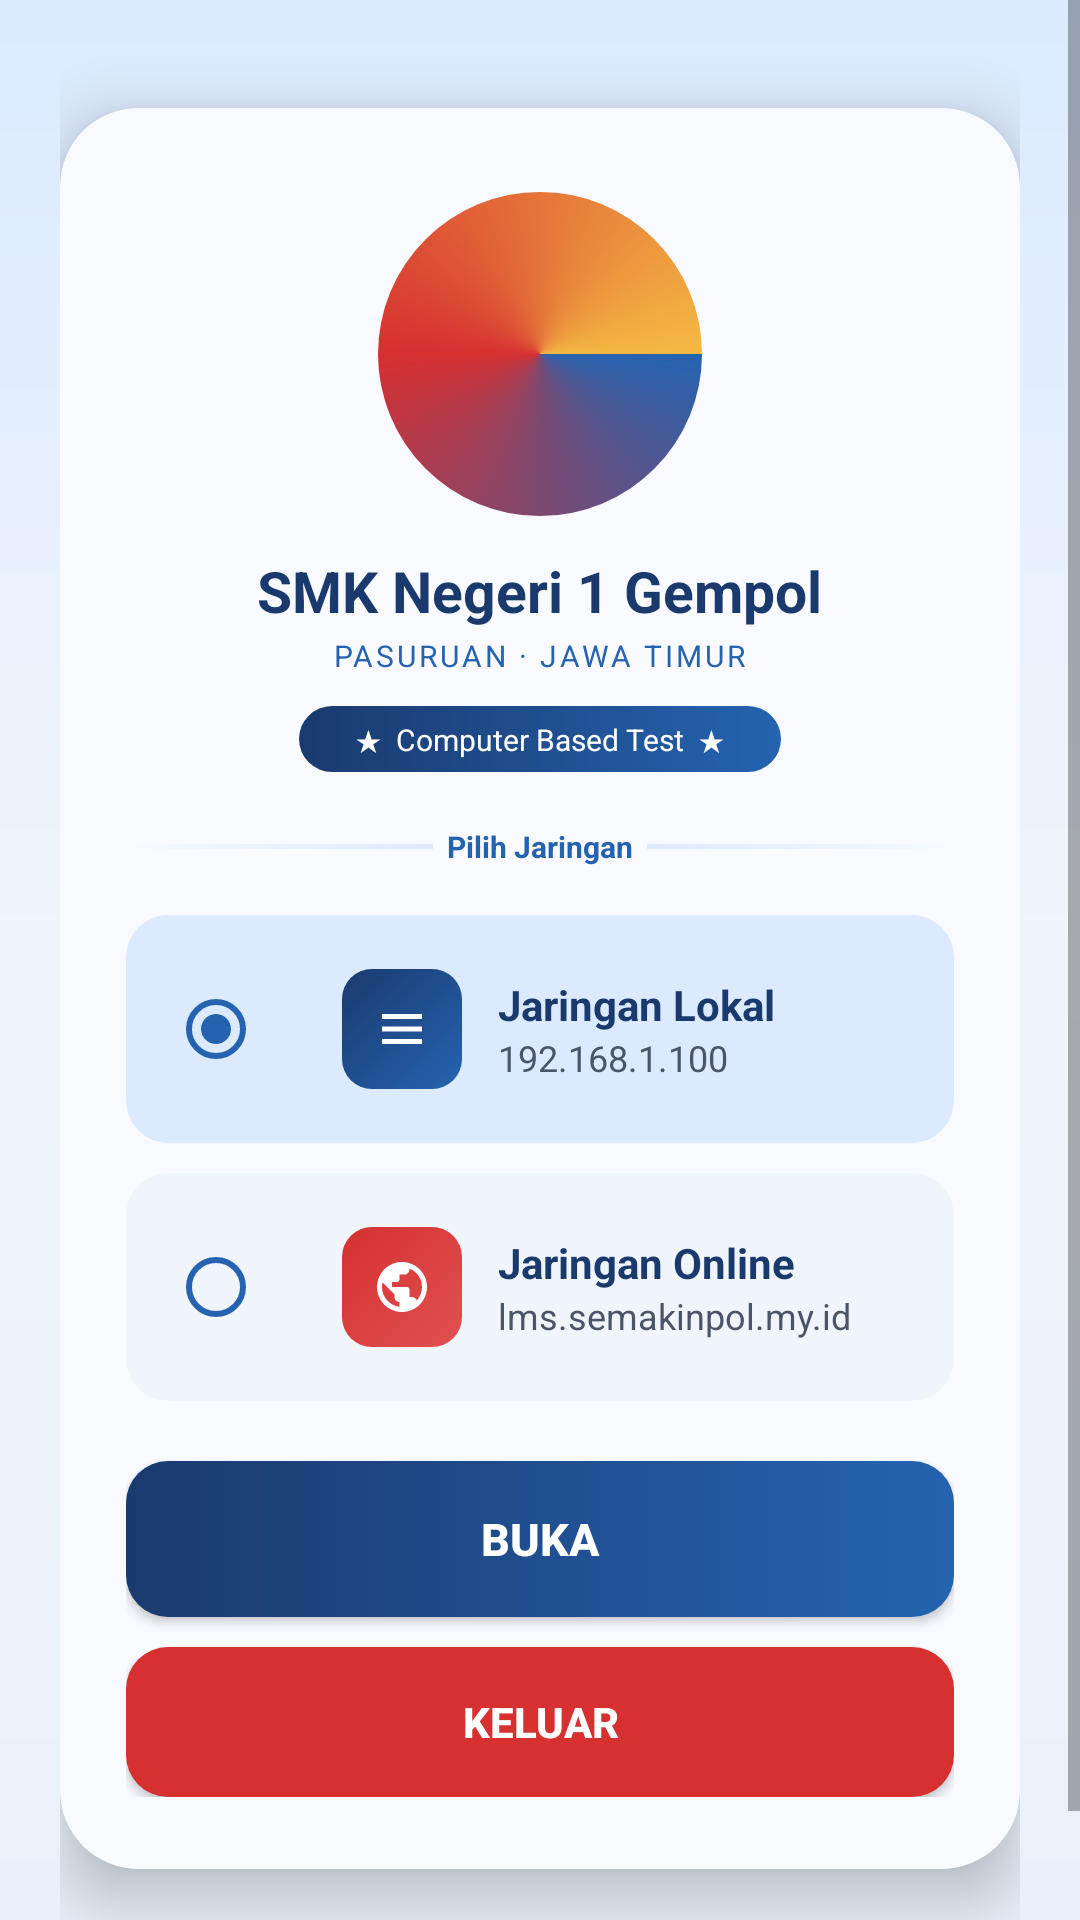

Icon bounding boxes for this 1080px×1920px phone screenshot, format [x1=x1, y1=y1, x2=x2, y2=y2]:
globe: [x1=377, y1=1262, x2=427, y2=1312]
